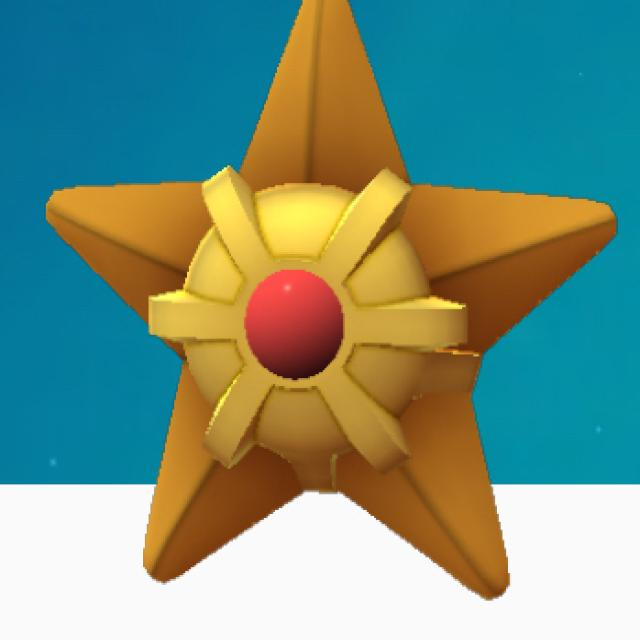Staryu: (46, 0, 616, 595)
